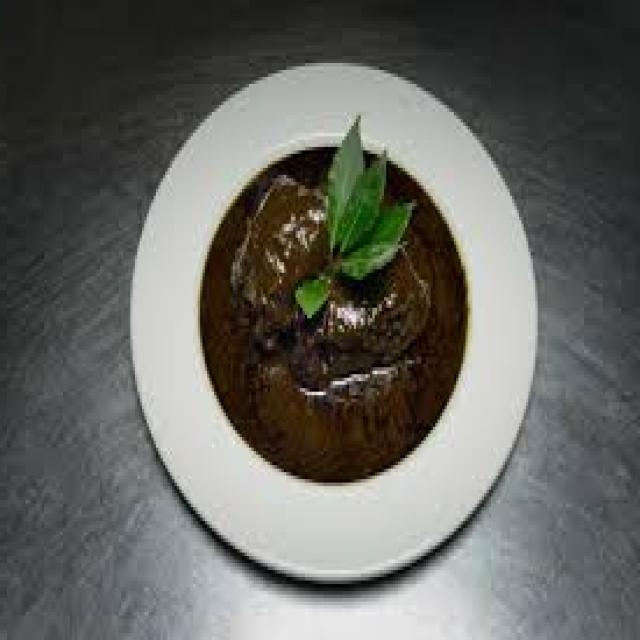Melloukhia: (95, 51, 556, 583)
